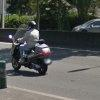Motorcycle: (7, 24, 57, 79)
